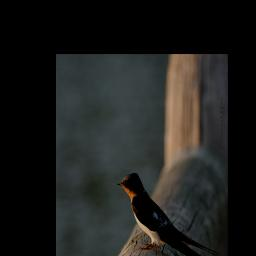Swallow: (114, 168, 222, 256)
